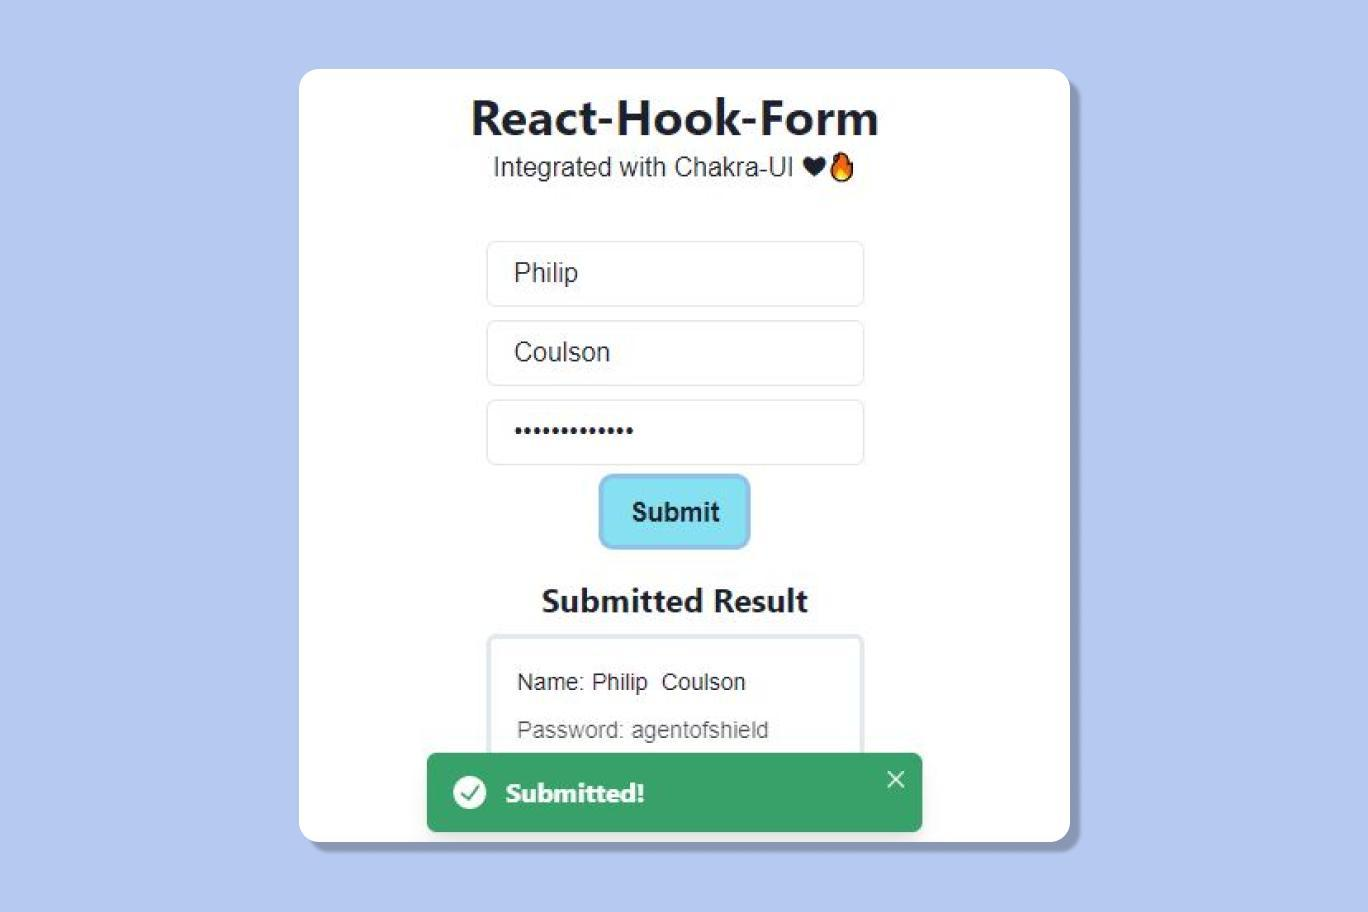button: (600, 477, 752, 550)
icon: (889, 767, 911, 793)
input: (482, 394, 870, 470), (484, 239, 871, 312), (483, 319, 870, 390)
label: (469, 95, 883, 142), (490, 154, 867, 183), (536, 584, 814, 620), (515, 716, 774, 742), (516, 669, 750, 697)
